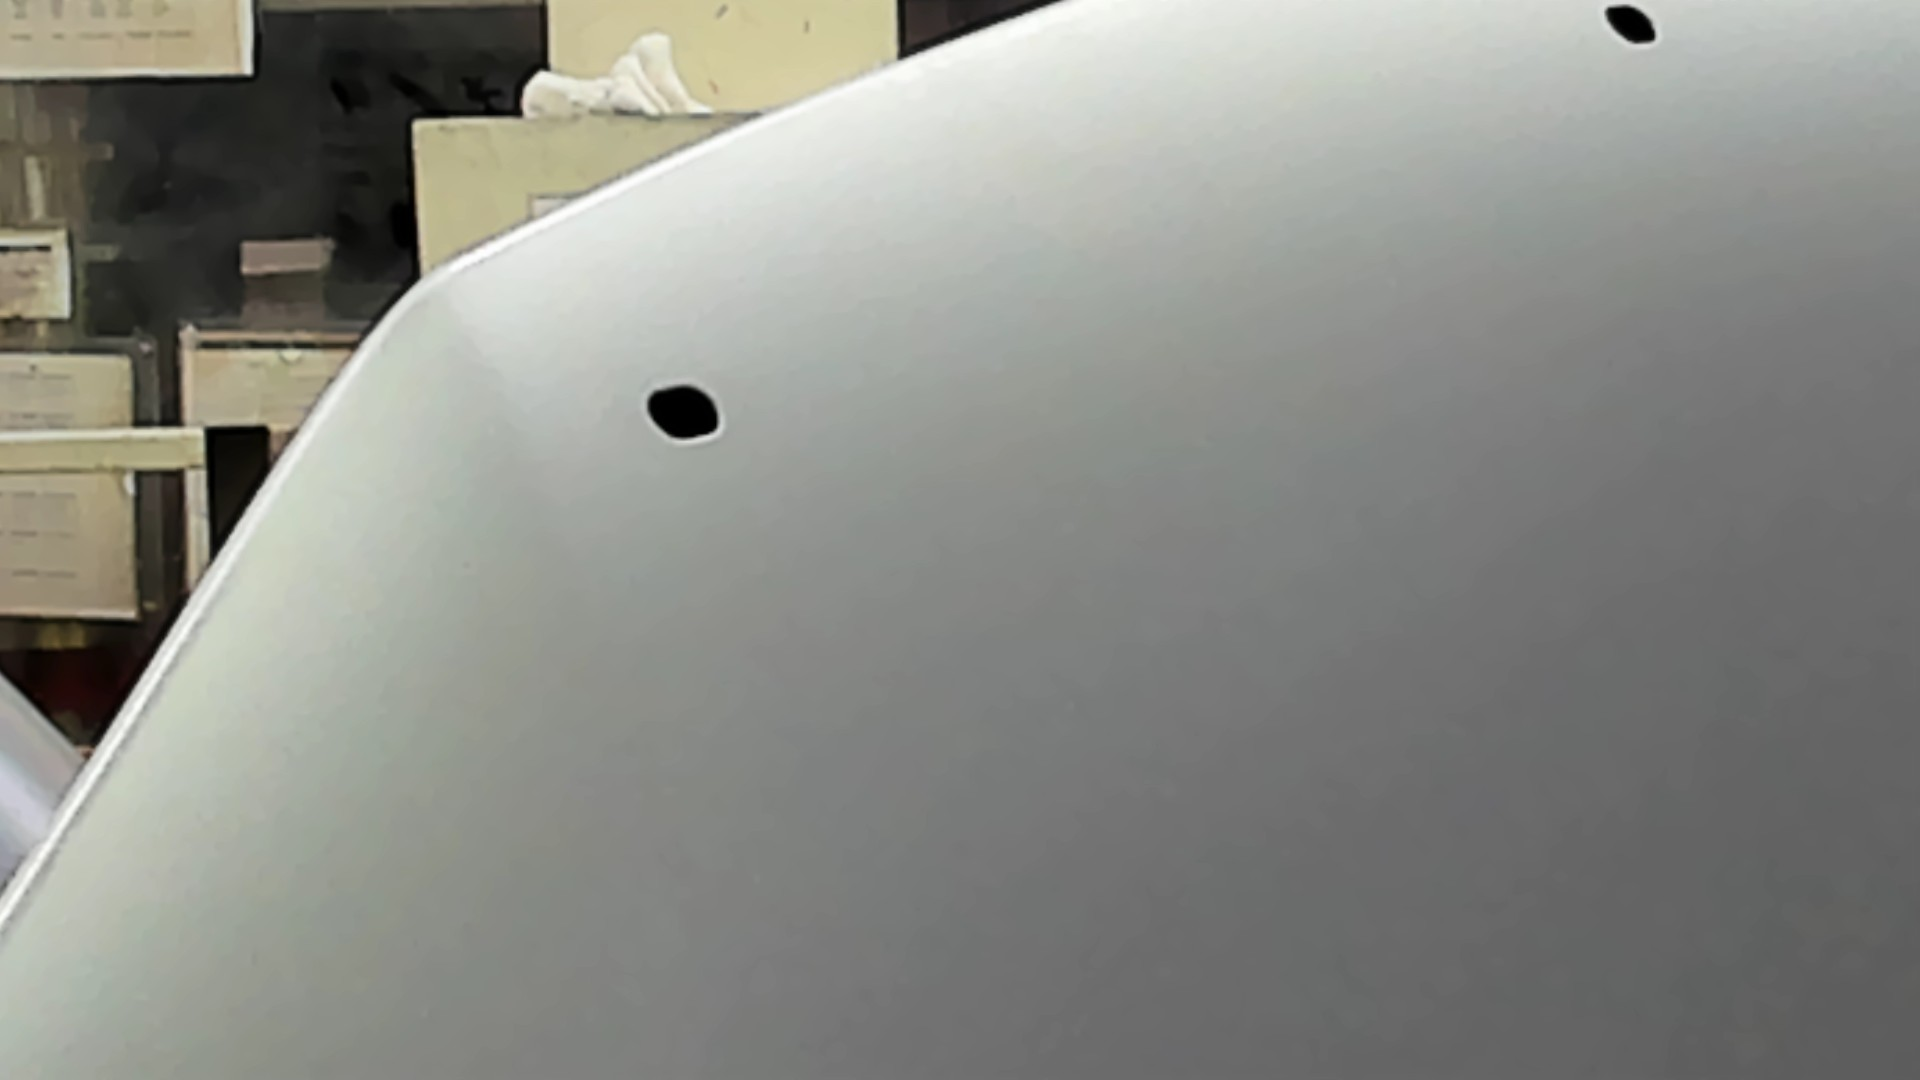amorfo: (644, 373, 727, 446), (1600, 1, 1663, 51)
